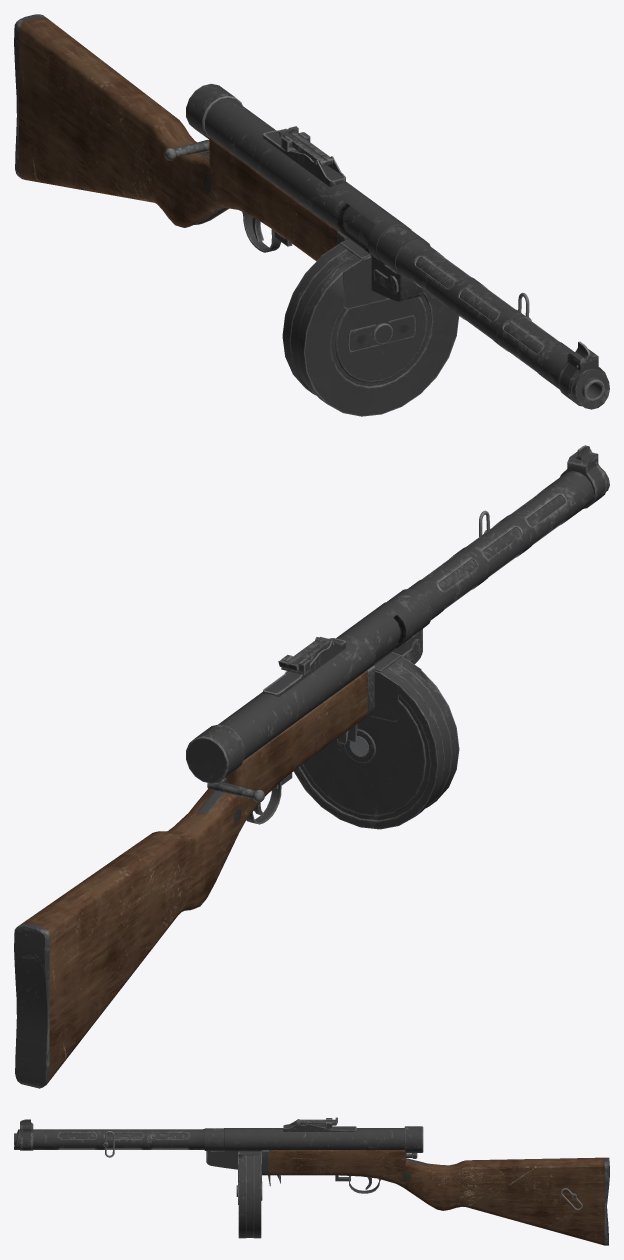
Rendered from weapon_suomi.glb.
The picture shows the model from 3 angles, top to bottom: view 1: azimuth 30°, elevation 25°; view 2: azimuth 150°, elevation 25°; view 3: azimuth 270°, elevation 25°; orthographic projection. The views are drawn at different scales.
Visible parts, largest first — view 1: Body, Magazine, Ejector; view 2: Body, Magazine; view 3: Body, Magazine.
Part boxes in pixels (box(x1,y1,x2,y2)): Body: box(14, 14, 609, 409); Magazine: box(282, 239, 459, 416); Ejector: box(343, 206, 374, 246); Body: box(14, 445, 609, 1088); Magazine: box(293, 652, 459, 829); Body: box(14, 1117, 609, 1245); Magazine: box(236, 1151, 262, 1238).
Size of the model in its own units: 0.1387 by 0.2003 by 0.8749.
1 material, 1 textured.
